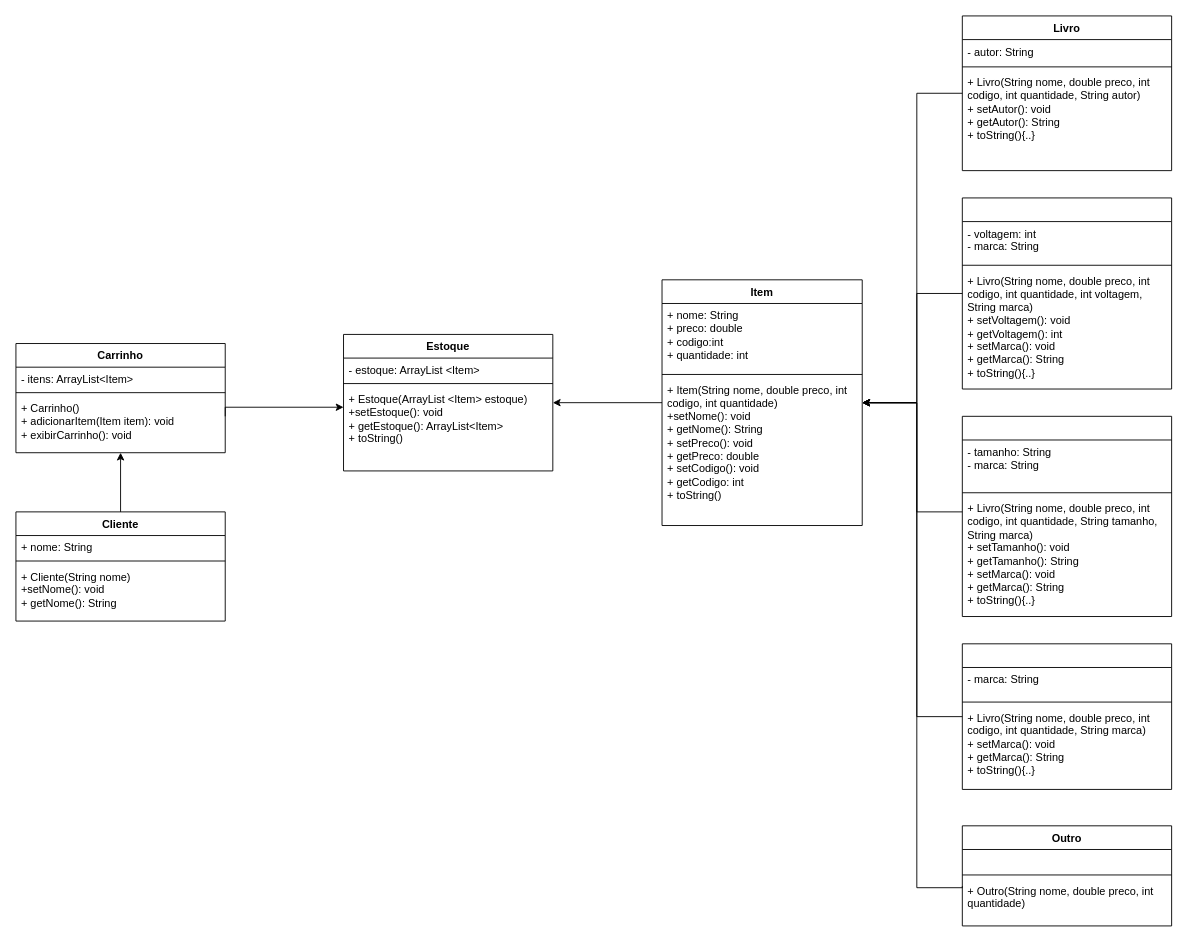
Some shapes in this 1188 by 945 pixel diagram are drawn without their labels. Here are the shapes that lost their labels. From the top down, the box of each, then its label:
(961, 197, 1172, 389): Eletrodomestico
(961, 415, 1172, 617): Roupas
(961, 643, 1172, 789): Eletrônico
